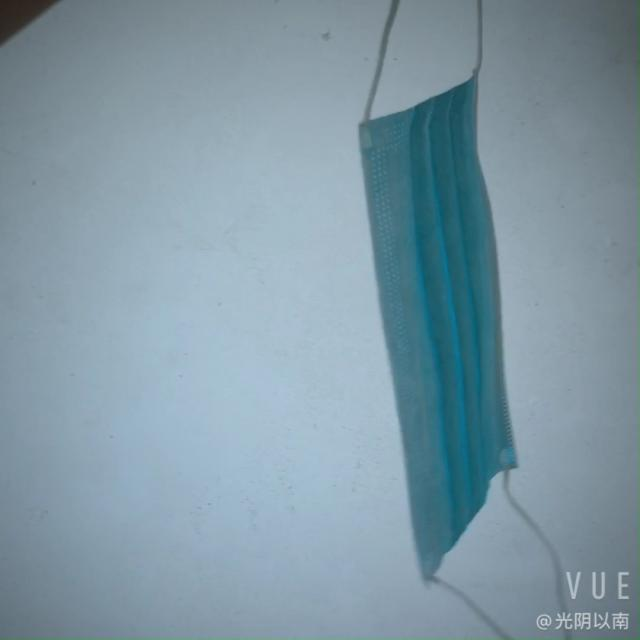non-organic waste: (362, 52, 534, 578)
